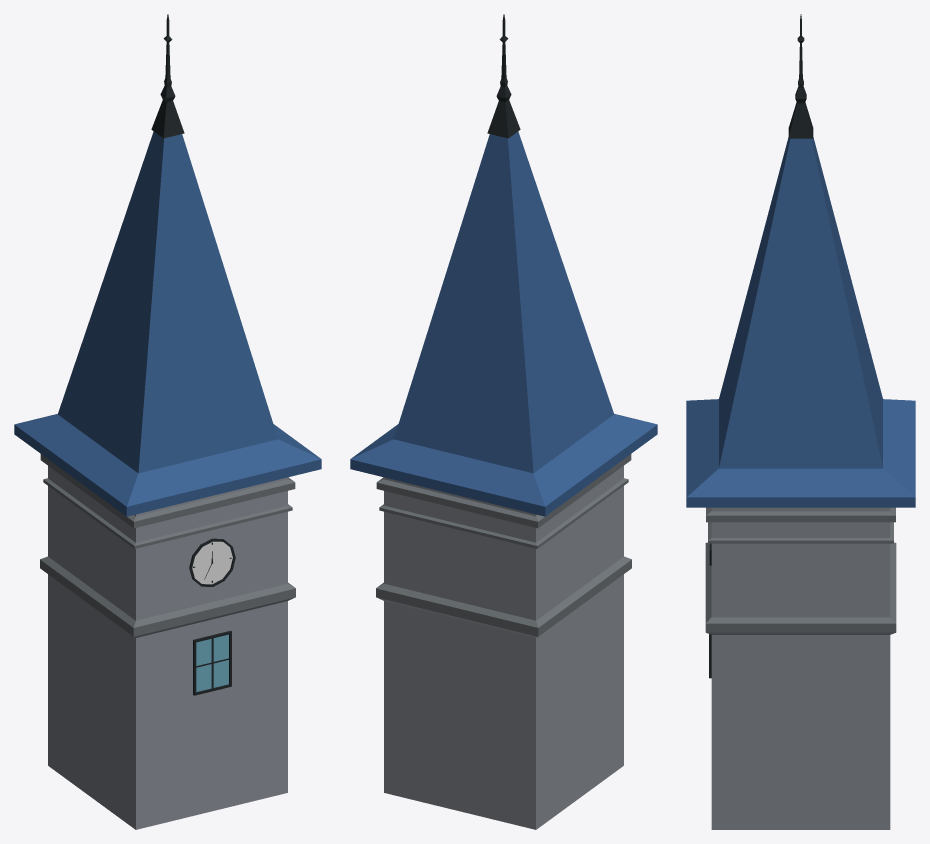
File: Building_08.fbx
3 views of the same model, side by side, from view 1: azimuth 30°, elevation 25°; view 2: azimuth 150°, elevation 25°; view 3: azimuth 270°, elevation 25° (orthographic).
Parts seen in each view (by area): view 1: Building_08; view 2: Building_08; view 3: Building_08.
Boxes of the visible parts, x1,y1,x2,y2 form: Building_08: [14, 14, 321, 829]; Building_08: [350, 14, 657, 829]; Building_08: [686, 14, 915, 829].
Bounding box in the file's own units: 641 × 2402 × 641.
